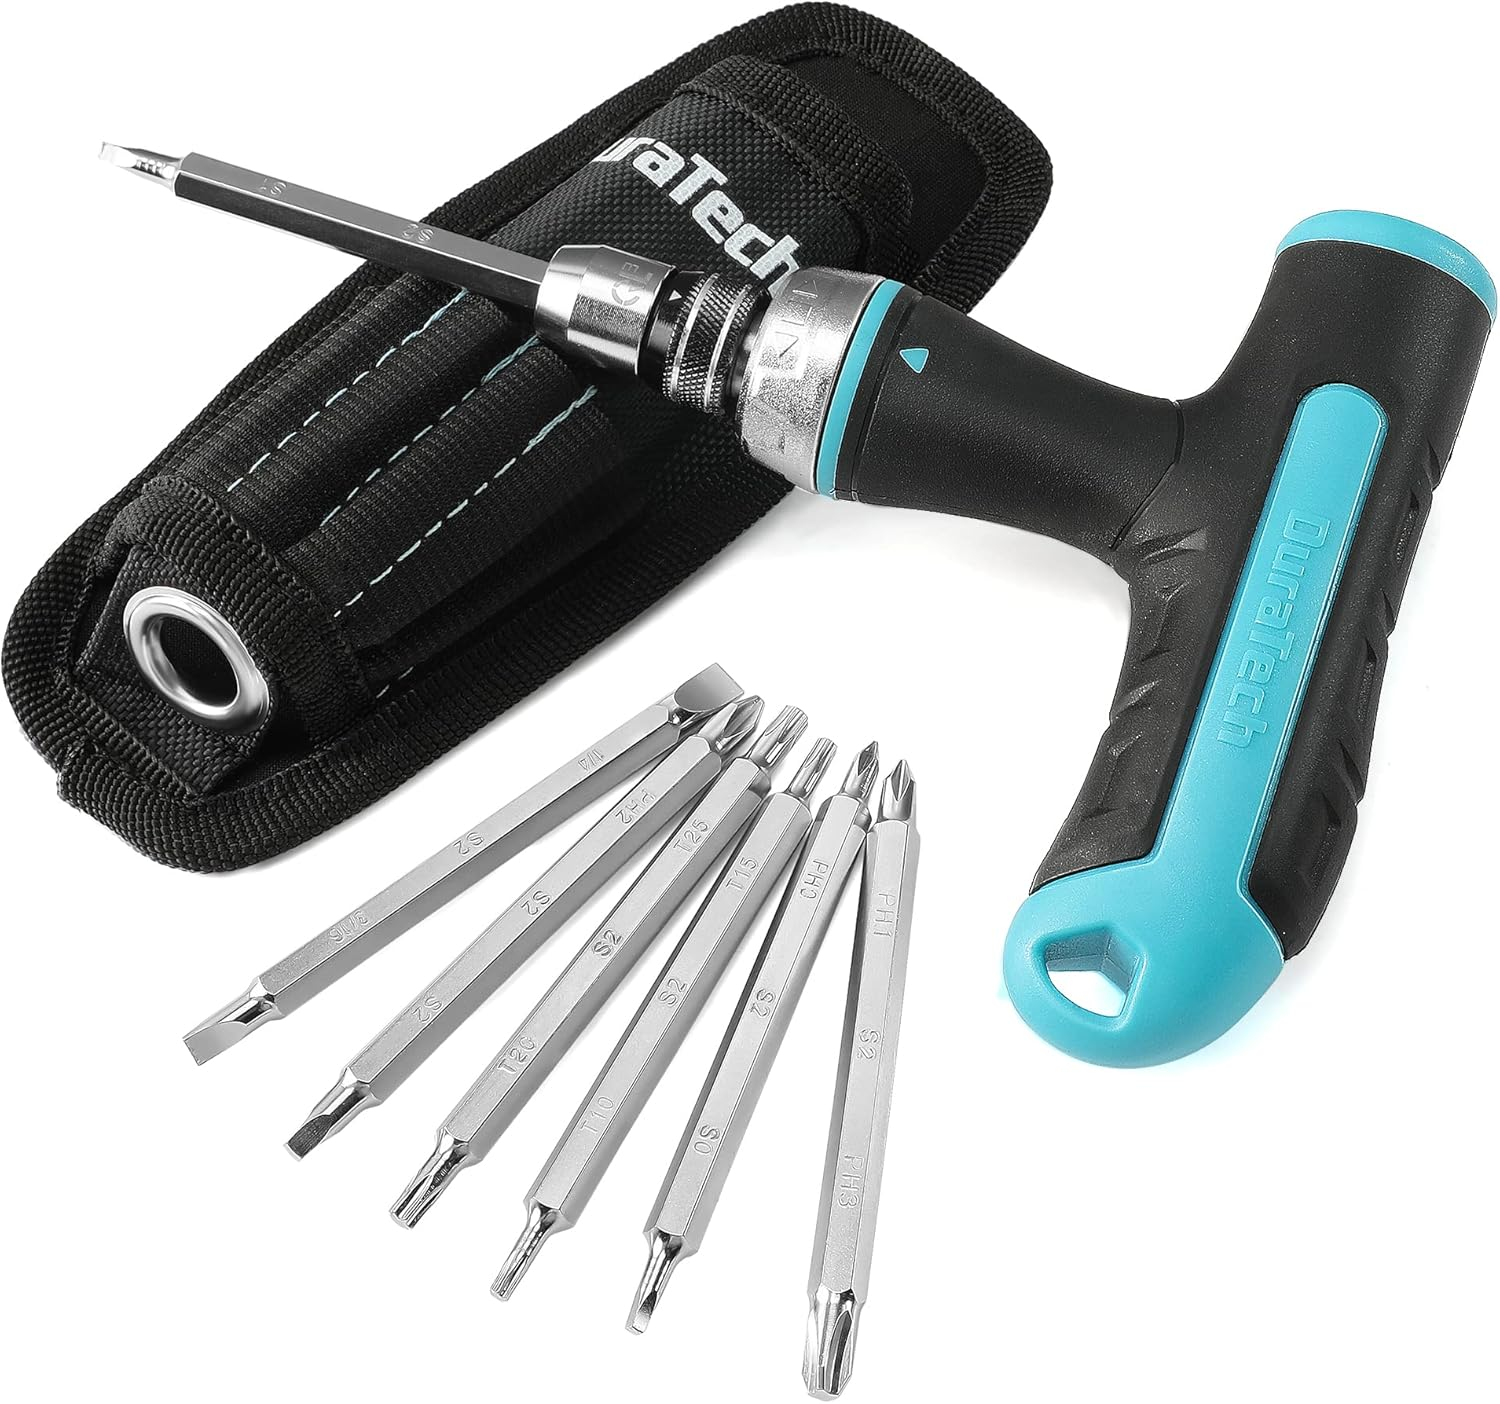screwdriver: (98, 136, 1497, 1068)
